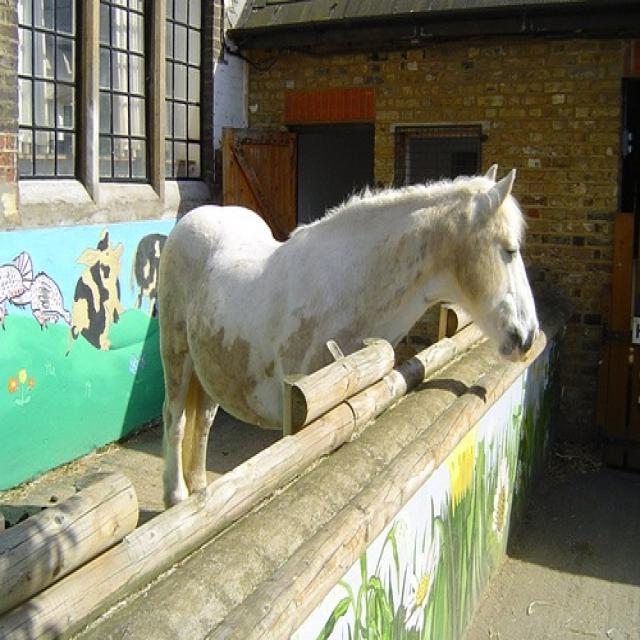horse: (160, 168, 566, 542)
